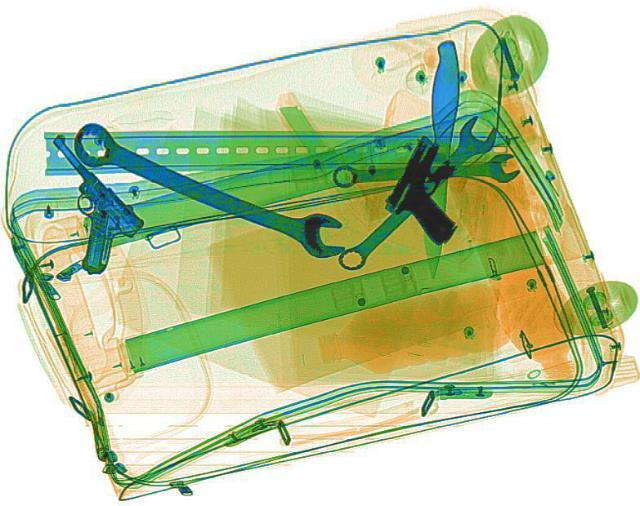Gun: (0, 130, 160, 268), (370, 135, 490, 244)
Knife: (416, 38, 462, 281)
Wrench: (55, 116, 358, 262), (326, 112, 508, 274), (328, 150, 520, 189)
